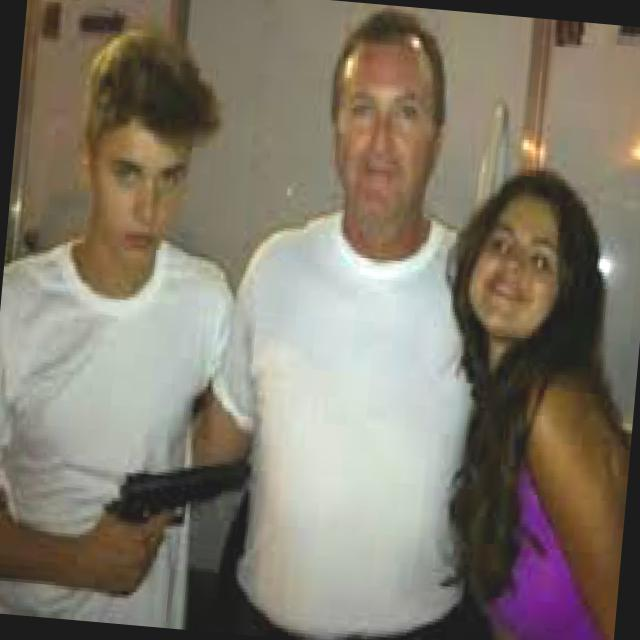handgun: (87, 436, 257, 592)
